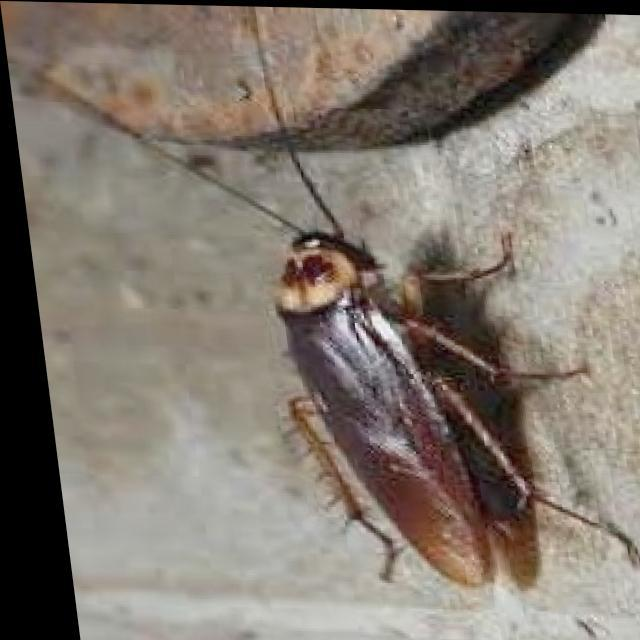cockroach: (223, 125, 575, 637)
